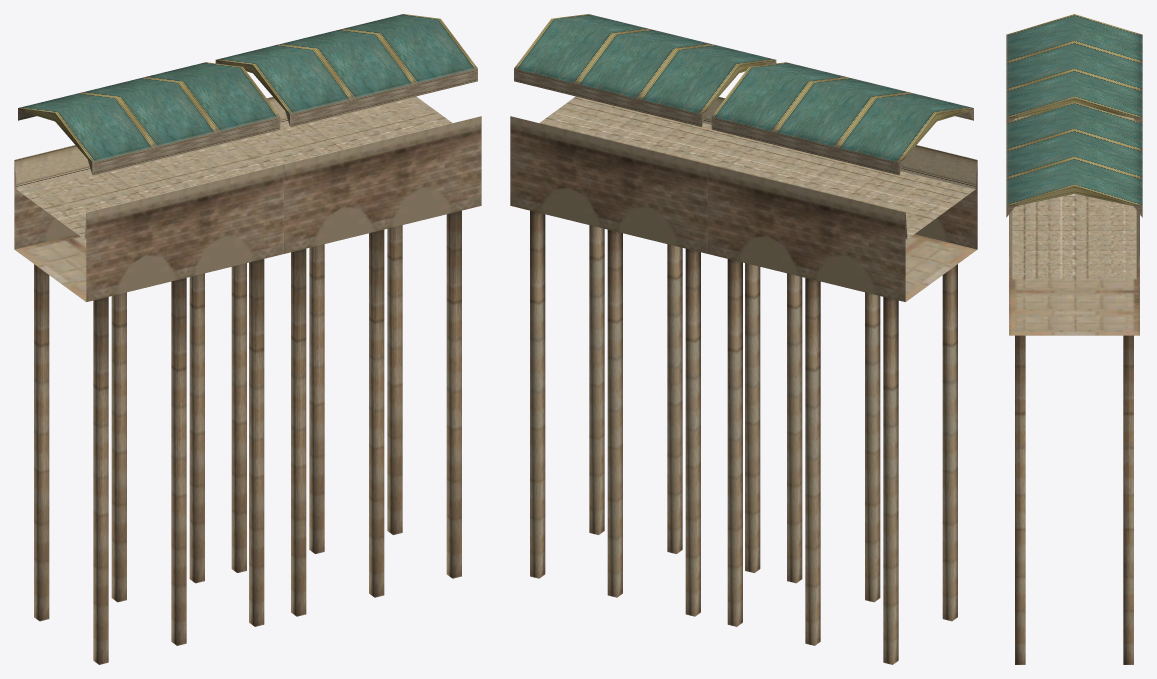
The model's file is thm_nboo_imprv_enclosed_walkway_s02_l4.fbx.
3 views of the same model, side by side, from view 1: azimuth 30°, elevation 25°; view 2: azimuth 150°, elevation 25°; view 3: azimuth 270°, elevation 25° (orthographic). The views are drawn at different scales.
Parts seen in each view (by area): view 1: mesh_node; view 2: mesh_node; view 3: mesh_node.
Part boxes in pixels (x1,y1,x2,y2): mesh_node: (14, 14, 481, 664); mesh_node: (510, 14, 977, 664); mesh_node: (1006, 14, 1142, 664).
Size of the model in its own units: 16.5 by 21.18 by 5.39.
